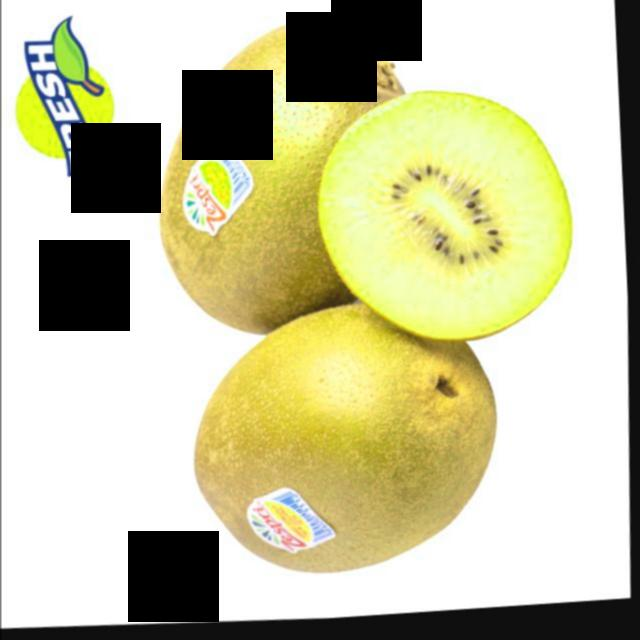kiwi: (186, 297, 509, 593), (153, 16, 421, 351)
